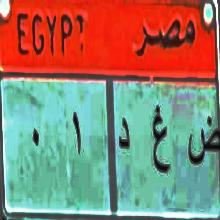0: (27, 117, 45, 156)
1: (70, 107, 85, 166)
daad: (186, 104, 220, 170)
daal: (116, 108, 132, 166)
ghayn: (150, 95, 174, 184)
